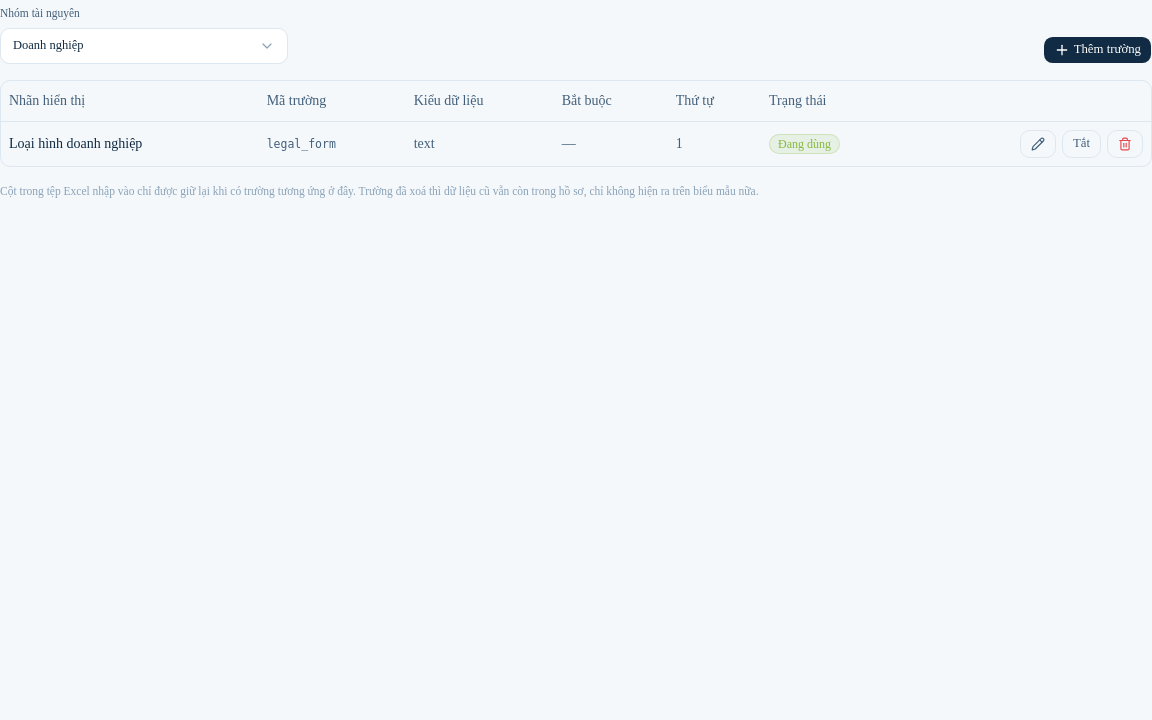
Scenario: Xoá a field: a confirm DIALOG, not a row under the table (S33) › refusal: the server's sentence shows INSIDE the dialog, which stays open; not in the table
This screenshot has width=1152, height=720.
Click the button named "Xoá trường Loại hình doanh nghiệp" at coordinates (1125, 144), box top-left (1107, 130), bottom-right (1143, 158)
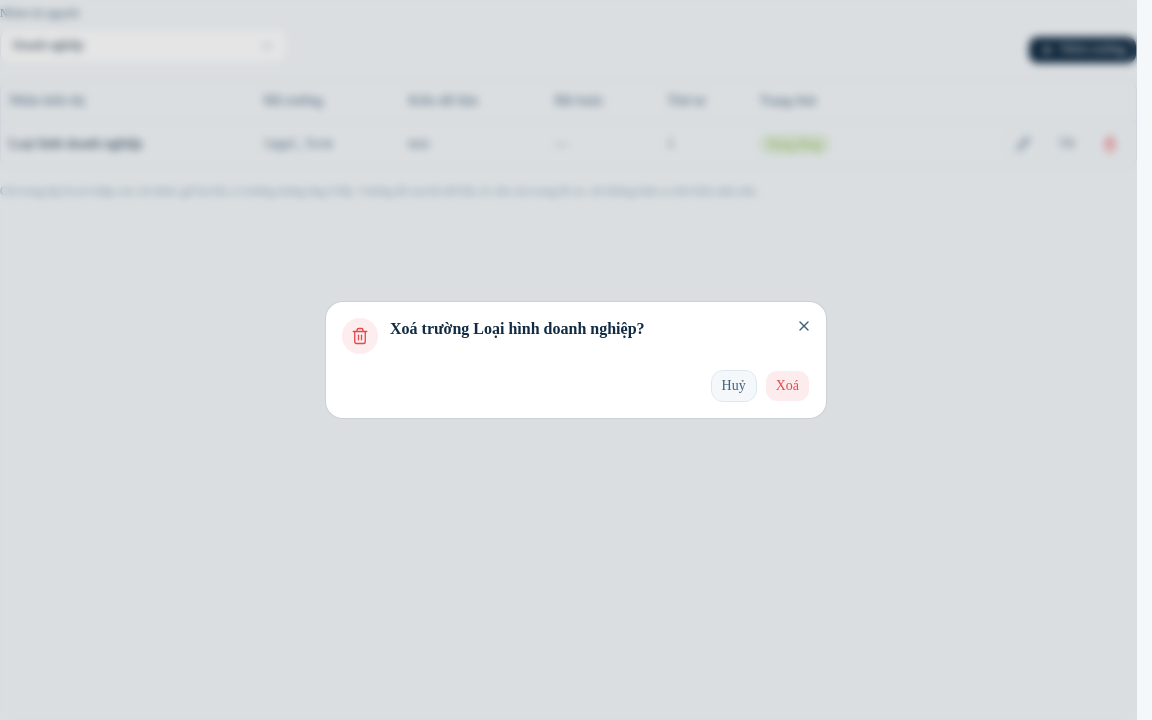
Now the submit button is shown
Click the submit button at coordinates (787, 386), box top-left (765, 370), bottom-right (810, 402)
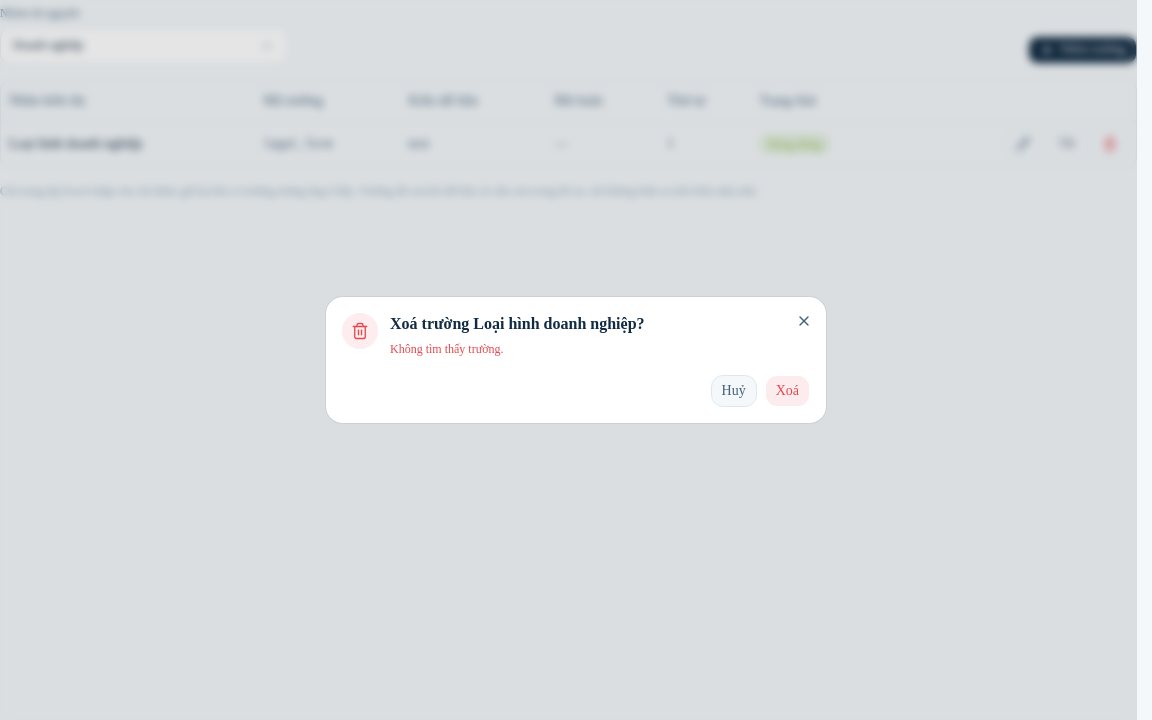
Expected: the table does not show "Không tìm thấy trường."
Now the dialog is shown, box top-left (326, 297), bottom-right (826, 422)
Now the message "Không tìm thấy trường." is shown, box top-left (390, 342), bottom-right (504, 356)
